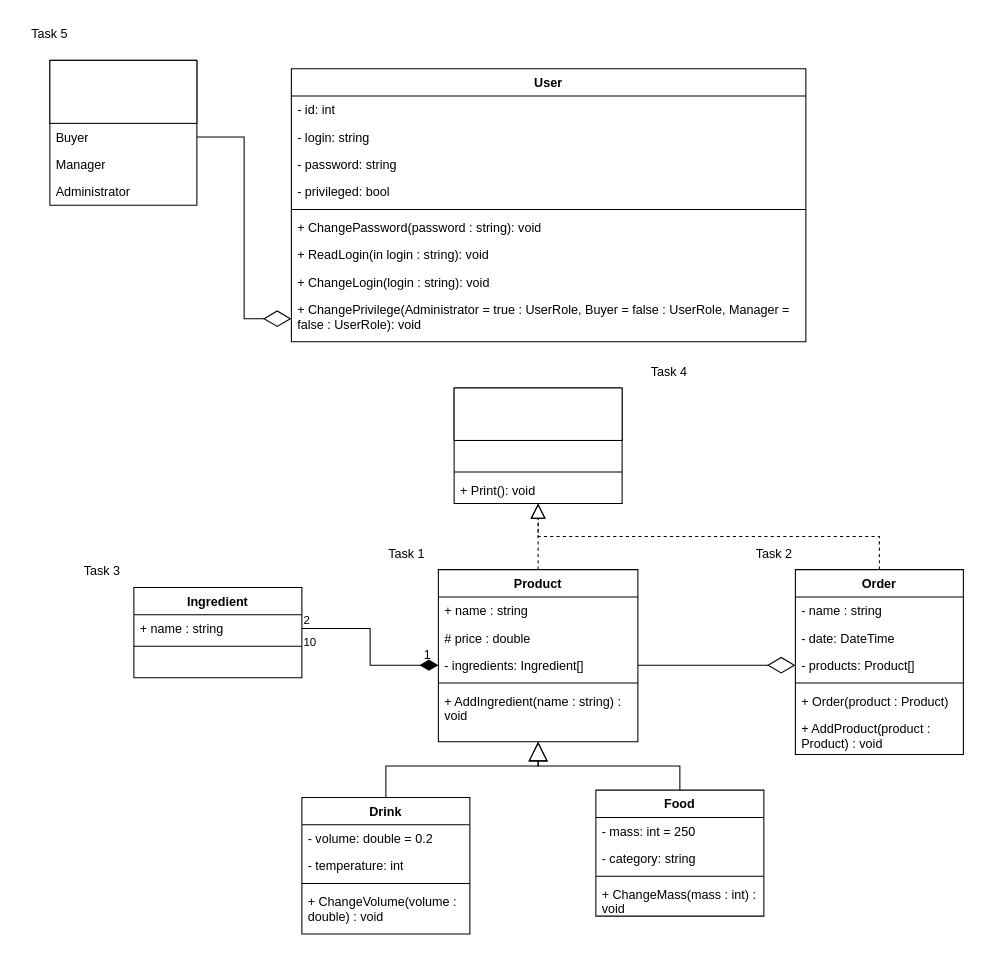
Image size: 982x954. Some labels were removed from this diagram. The shapes that lost their labels are listed below. From the top down, each one's centre as x and y in pixels, then its label:
At [123,91]: "«enumerator» UserRole".
At [537,413]: "«interface» IPrint".
